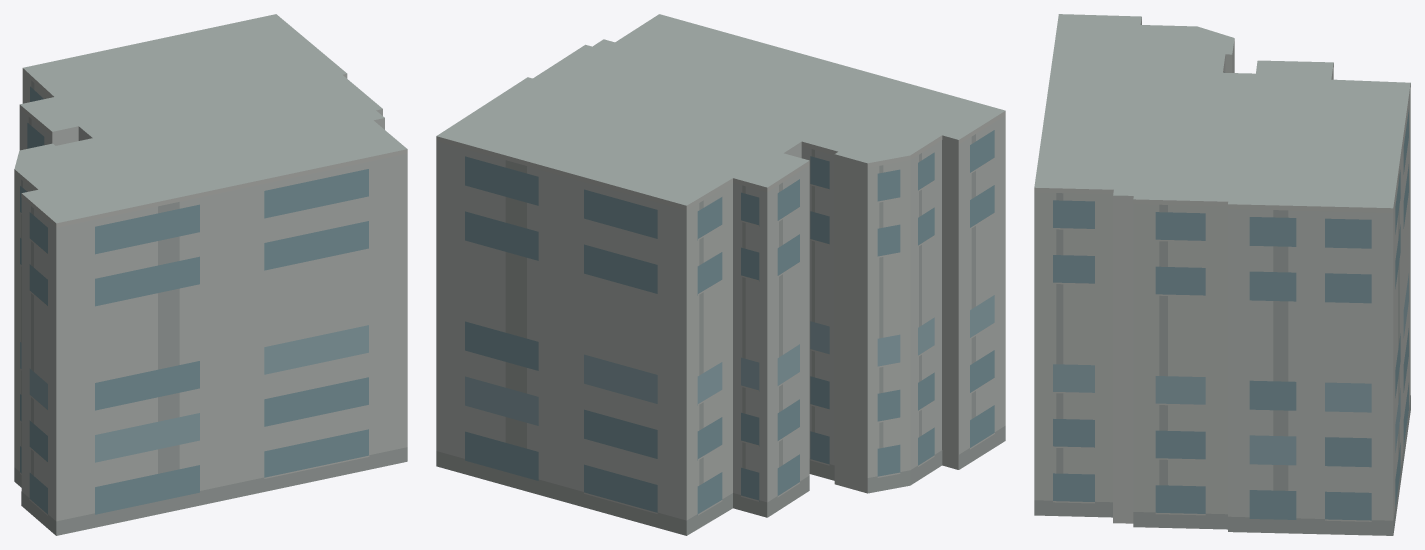
The model's file is survey-upis-32815765.glb.
3 renders of one model, left to right at view 1: azimuth 30°, elevation 25°; view 2: azimuth 150°, elevation 25°; view 3: azimuth 270°, elevation 25°, orthographic. The views are drawn at different scales.
Parts seen in each view (by area): view 1: survey-upis-32815765.tmp; view 2: survey-upis-32815765.tmp; view 3: survey-upis-32815765.tmp.
Part boxes in pixels (left/top/right/bottom): survey-upis-32815765.tmp: left=14, top=14, right=407, bottom=535; survey-upis-32815765.tmp: left=436, top=14, right=1005, bottom=535; survey-upis-32815765.tmp: left=1034, top=14, right=1410, bottom=535.
Size of the model in its own units: 21.61 by 17 by 17.71.
